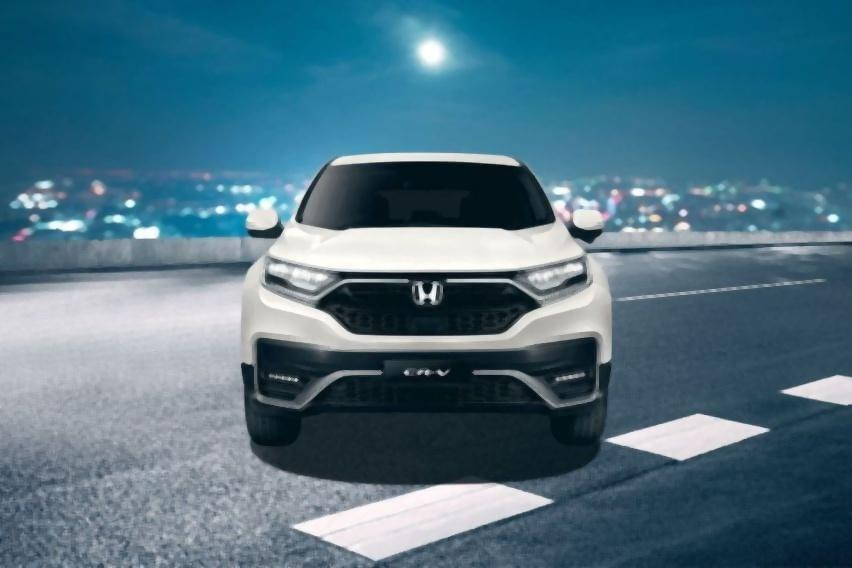Car hood: (266, 222, 582, 279)
Front bumper: (228, 311, 623, 427)
Headlight - -L-: (515, 253, 597, 304)
Headlight - -R-: (259, 253, 342, 304)
Side mirror - -L-: (569, 206, 606, 242)
Side mirror - -R-: (244, 206, 282, 237)
